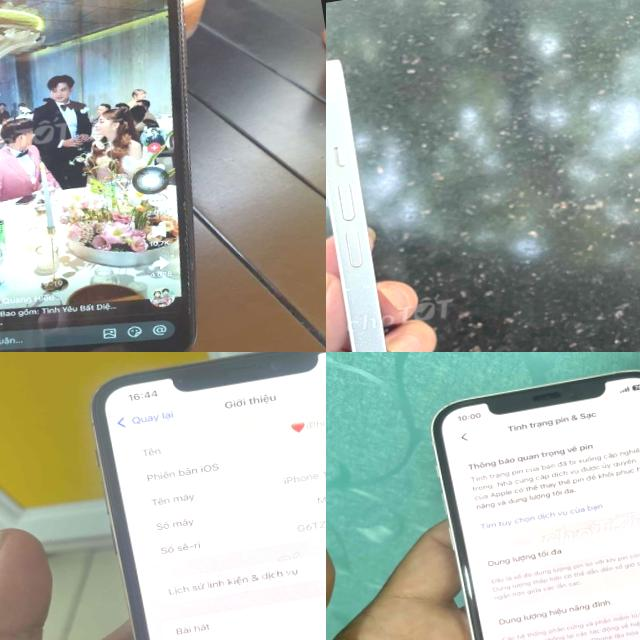gen_11: (69, 352, 326, 640), (0, 0, 195, 352)
gen_12_13: (416, 356, 640, 640), (326, 45, 424, 352)
